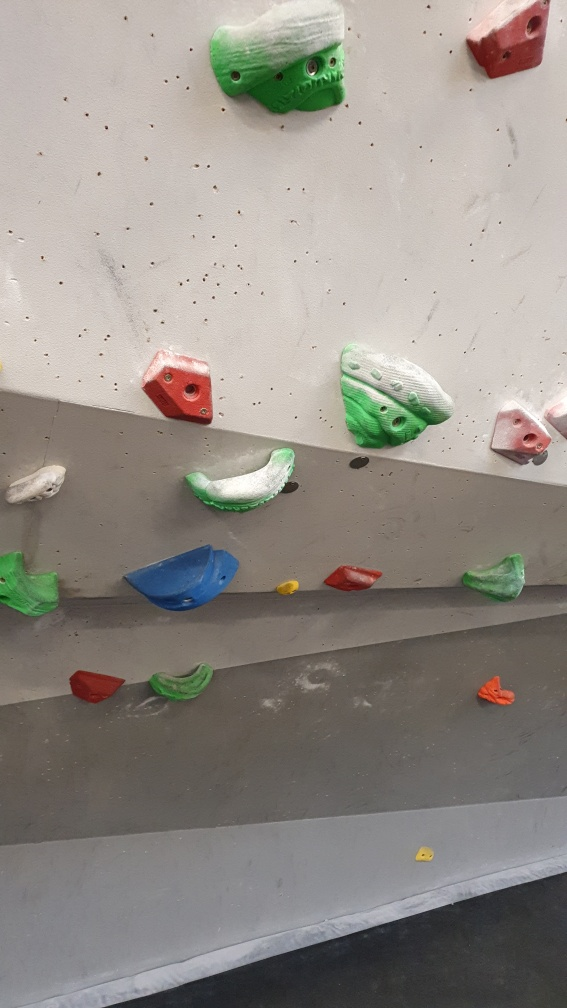Crimp: (453, 1, 557, 85), (140, 346, 221, 428), (487, 405, 559, 470), (322, 563, 387, 597)
Hand Start: (343, 448, 373, 476), (529, 444, 555, 475), (278, 478, 303, 501)
Jug: (204, 1, 352, 118), (331, 338, 461, 453), (179, 442, 301, 517), (1, 543, 70, 620), (3, 457, 73, 517), (456, 552, 530, 603), (144, 655, 222, 702)
Pinch: (116, 542, 243, 615)
